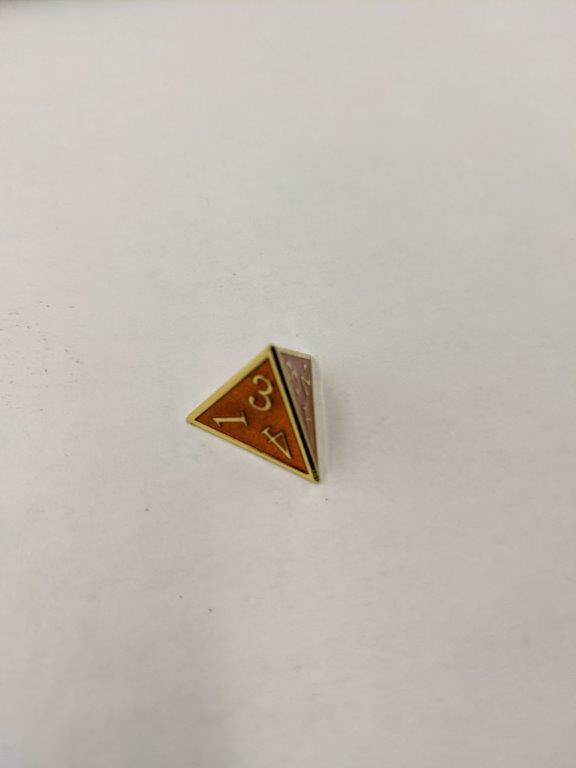d4-3: (183, 335, 327, 495)
